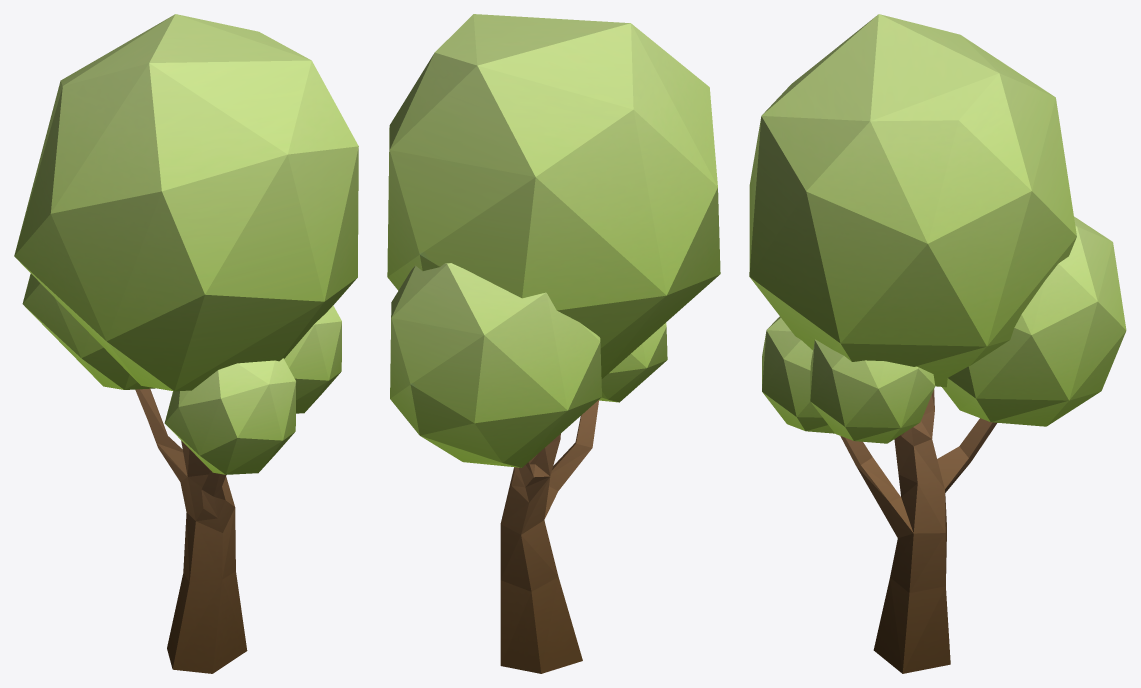
The model's file is ZLP_Plant_I_6.FBX.
3 renders of one model, left to right at view 1: azimuth 30°, elevation 25°; view 2: azimuth 150°, elevation 25°; view 3: azimuth 270°, elevation 25°, orthographic. The views are drawn at different scales.
Parts seen in each view (by area): view 1: ZLP_Plant_I_6; view 2: ZLP_Plant_I_6; view 3: ZLP_Plant_I_6.
Boxes of the visible parts, x1,y1,x2,y2 form: ZLP_Plant_I_6: (14,14,358,673); ZLP_Plant_I_6: (387,14,720,673); ZLP_Plant_I_6: (749,14,1126,673).
Size of the model in its own units: 66.18 by 130 by 73.29.
